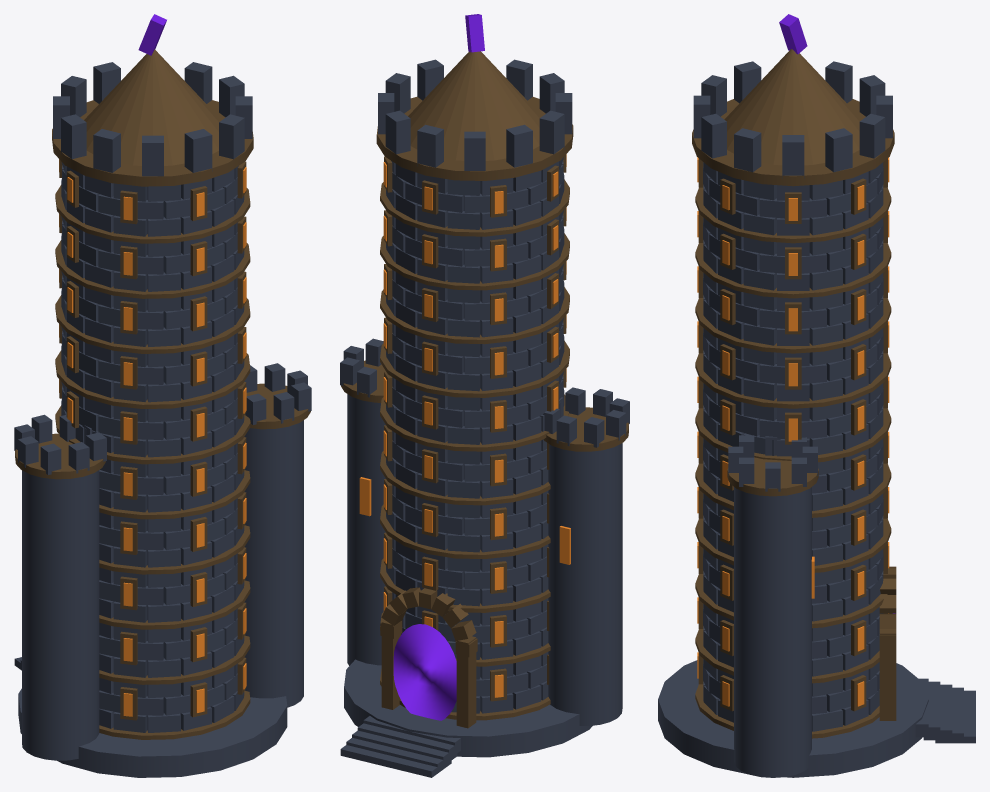
Rendered from RoE_Tower.obj.
3 views of the same model, side by side, from view 1: azimuth 30°, elevation 25°; view 2: azimuth 150°, elevation 25°; view 3: azimuth 270°, elevation 25° (orthographic). The views are drawn at different scales.
Visible parts, largest first — view 1: SideTurret_1, SideTurret, Foundation, CentralSpire, CrownRing, FloorCornice_8, FloorCornice_9, FloorCornice_6, FloorCornice_7, FloorCornice_5, TurretTrim_1, FloorCornice_1 (+46 smaller); view 2: SideTurret_1, SideTurret, CentralSpire, Foundation, Portal, CrownRing, FloorCornice_9, FloorCornice_6, FloorCornice_8, FloorCornice_7, GateRight, FloorCornice_5 (+40 smaller); view 3: SideTurret, Foundation, CentralSpire, CrownRing, FloorCornice_9, FloorCornice_6, FloorCornice_7, FloorCornice_8, TurretTrim, FloorCornice_5, GateLeft, FloorCornice_4 (+31 smaller).
Part boxes in pixels (bbox=[...]): SideTurret_1: bbox=[22, 470, 99, 760]; SideTurret: bbox=[244, 420, 303, 707]; Foundation: bbox=[18, 688, 287, 777]; CentralSpire: bbox=[84, 49, 221, 165]; CrownRing: bbox=[52, 100, 253, 186]; FloorCornice_8: bbox=[55, 240, 250, 298]; FloorCornice_9: bbox=[55, 185, 250, 243]; FloorCornice_6: bbox=[55, 350, 250, 408]; FloorCornice_7: bbox=[55, 295, 250, 353]; FloorCornice_5: bbox=[55, 405, 250, 464]; TurretTrim_1: bbox=[15, 433, 105, 479]; FloorCornice_1: bbox=[99, 635, 250, 684]; SideTurret_1: bbox=[548, 443, 622, 725]; SideTurret: bbox=[347, 394, 385, 665]; CentralSpire: bbox=[408, 51, 541, 160]; Foundation: bbox=[344, 659, 592, 757]; Portal: bbox=[393, 624, 456, 720]; CrownRing: bbox=[376, 97, 573, 180]; FloorCornice_9: bbox=[380, 179, 569, 236]; FloorCornice_6: bbox=[380, 340, 569, 397]; FloorCornice_8: bbox=[380, 233, 569, 290]; FloorCornice_7: bbox=[380, 287, 569, 344]; GateRight: bbox=[456, 636, 476, 728]; FloorCornice_5: bbox=[380, 394, 568, 451]; SideTurret: bbox=[734, 487, 811, 777]; Foundation: bbox=[658, 660, 928, 777]; CentralSpire: bbox=[724, 49, 861, 165]; CrownRing: bbox=[692, 99, 894, 186]; FloorCornice_9: bbox=[695, 187, 891, 243]; FloorCornice_6: bbox=[695, 353, 891, 408]; FloorCornice_7: bbox=[695, 298, 891, 353]; FloorCornice_8: bbox=[695, 243, 891, 298]; TurretTrim: bbox=[727, 457, 818, 496]; FloorCornice_5: bbox=[695, 408, 891, 462]; GateLeft: bbox=[879, 629, 896, 720]; FloorCornice_4: bbox=[695, 463, 891, 517].
Size of the model in its own units: 9.7 by 22.99 by 9.4.
